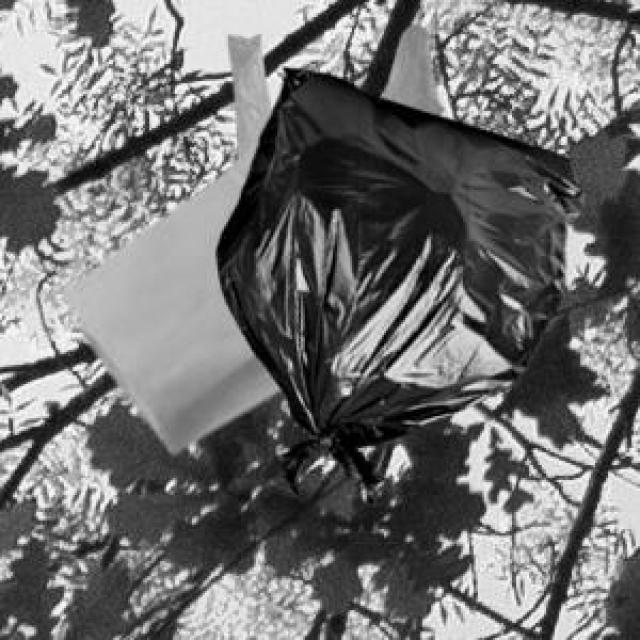miscellaneous trash: (213, 64, 580, 501)
paper: (60, 149, 275, 448)
